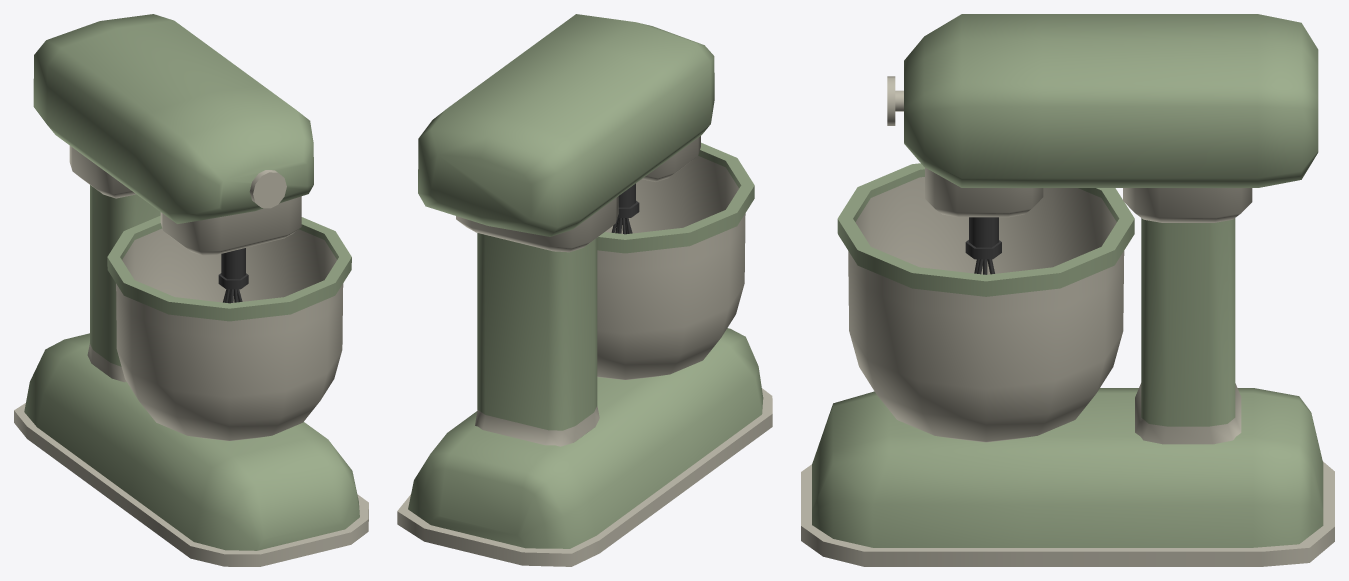
File: EggBeaterMachine_01.fbx
3 views of the same model, side by side, from view 1: azimuth 30°, elevation 25°; view 2: azimuth 150°, elevation 25°; view 3: azimuth 270°, elevation 25° (orthographic). The views are drawn at different scales.
Visible parts, largest first — view 1: EggBeaterMachine_01, EggBeaterMachine_01_Bowl; view 2: EggBeaterMachine_01, EggBeaterMachine_01_Bowl; view 3: EggBeaterMachine_01, EggBeaterMachine_01_Bowl.
Part boxes in pixels (x1,y1,x2,y2): EggBeaterMachine_01: (14,14,368,566); EggBeaterMachine_01_Bowl: (107,215,351,440); EggBeaterMachine_01: (397,14,772,566); EggBeaterMachine_01_Bowl: (597,142,754,379); EggBeaterMachine_01: (801,14,1334,566); EggBeaterMachine_01_Bowl: (837,163,1134,442).
Size of the model in its own units: 0.2626 by 0.462 by 0.4716.
